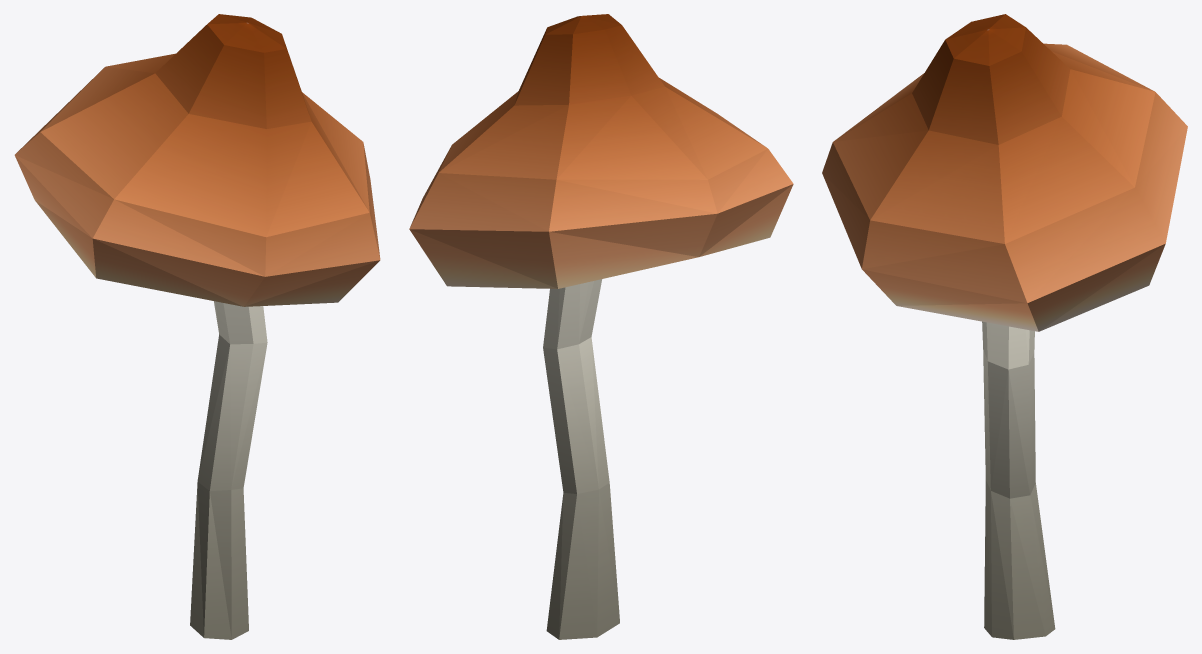
File: MushroomThin-01.FBX
3 views of the same model, side by side, from view 1: azimuth 30°, elevation 25°; view 2: azimuth 150°, elevation 25°; view 3: azimuth 270°, elevation 25° (orthographic).
Parts seen in each view (by area): view 1: MushroomThin-01; view 2: MushroomThin-01; view 3: MushroomThin-01.
Part boxes in pixels (box(x1,y1,x2,y2)): MushroomThin-01: box(14, 14, 380, 639); MushroomThin-01: box(409, 14, 793, 639); MushroomThin-01: box(822, 14, 1187, 639).
Size of the model in its own units: 31.86 by 56.69 by 30.96.
Materials: 1 (1 with a texture image).
